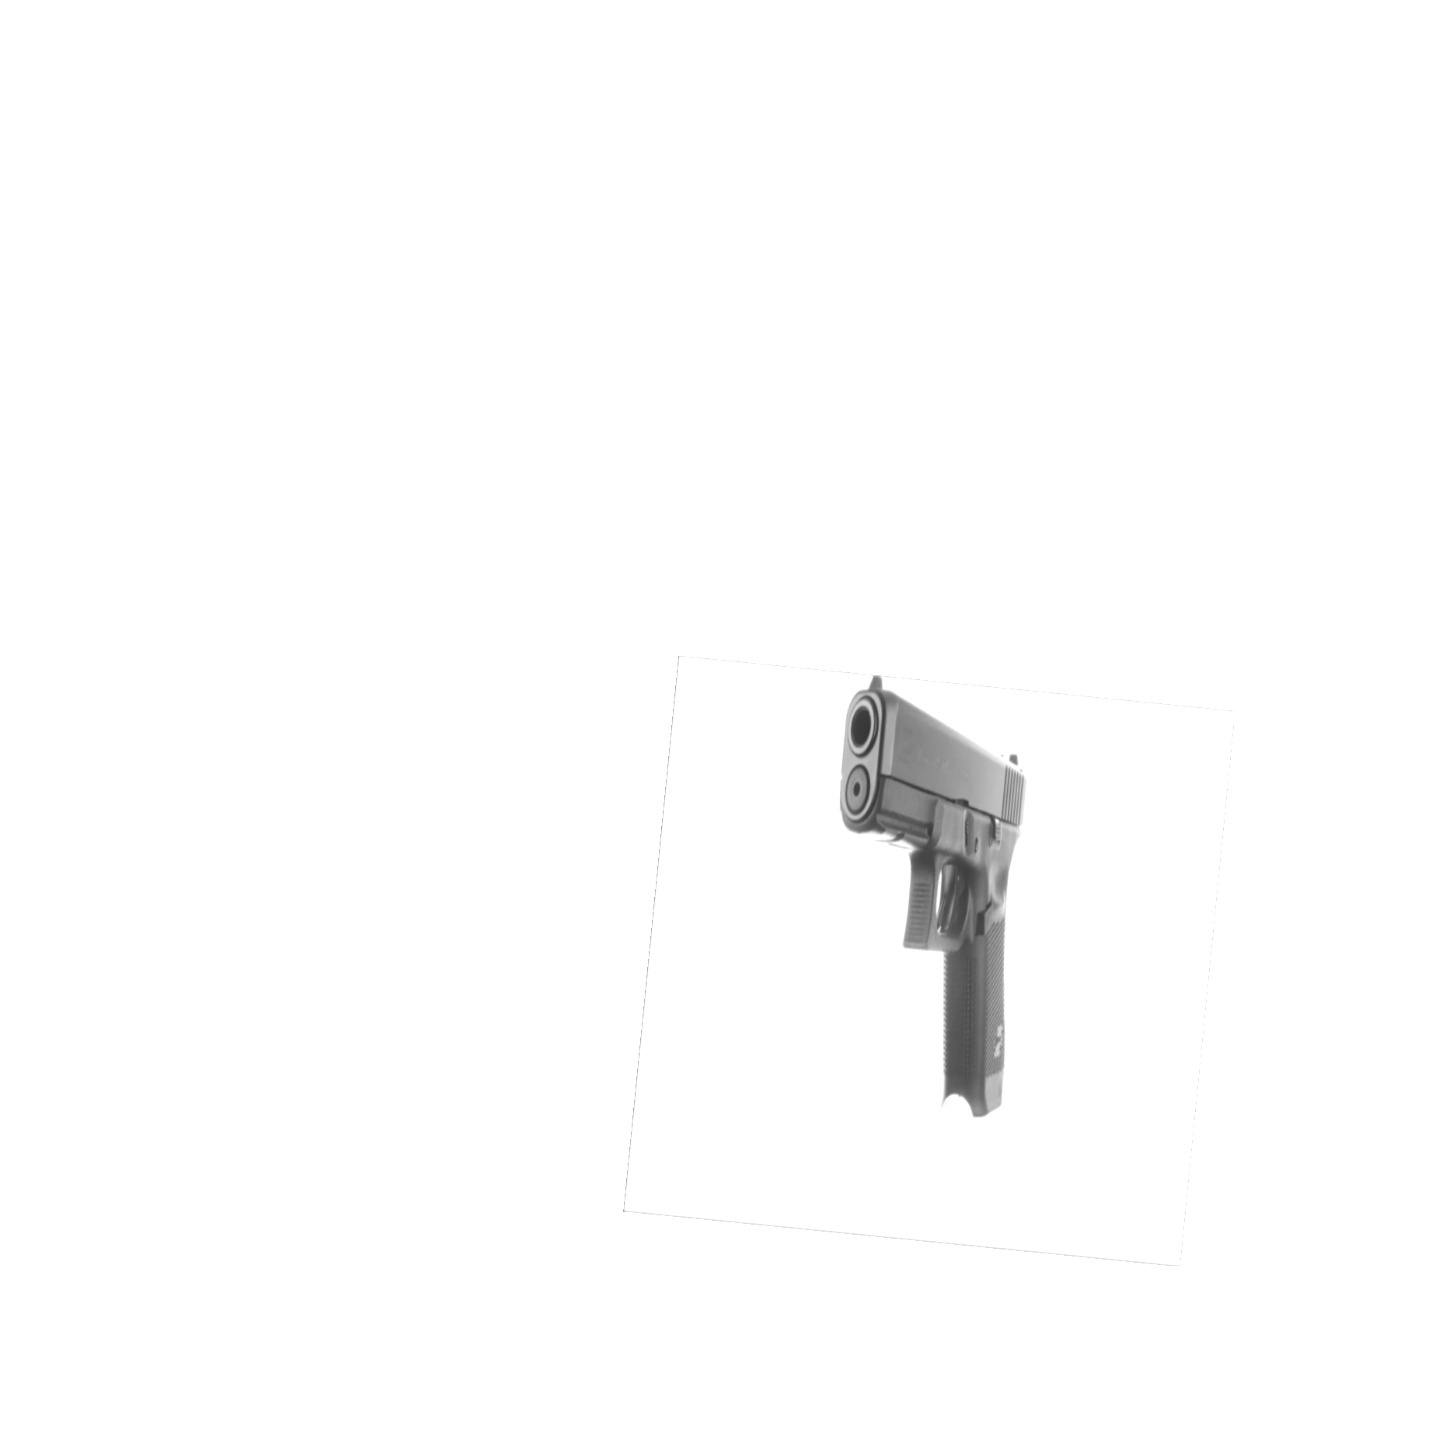gun: (822, 666, 1030, 1119)
